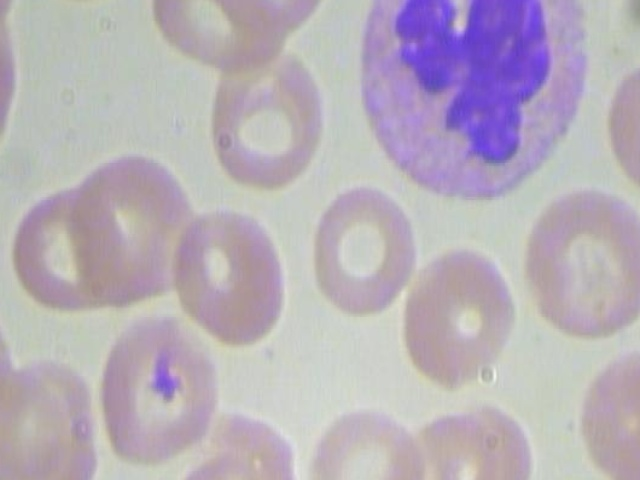RBC: (193, 30, 341, 196), (512, 182, 640, 349), (170, 187, 298, 346), (81, 142, 208, 301), (98, 311, 225, 470), (405, 243, 514, 386), (308, 179, 416, 322), (0, 350, 100, 480), (299, 390, 427, 480), (571, 339, 640, 480), (203, 0, 330, 46), (162, 437, 289, 480), (603, 52, 640, 195)
WBC: (340, 0, 603, 208)
